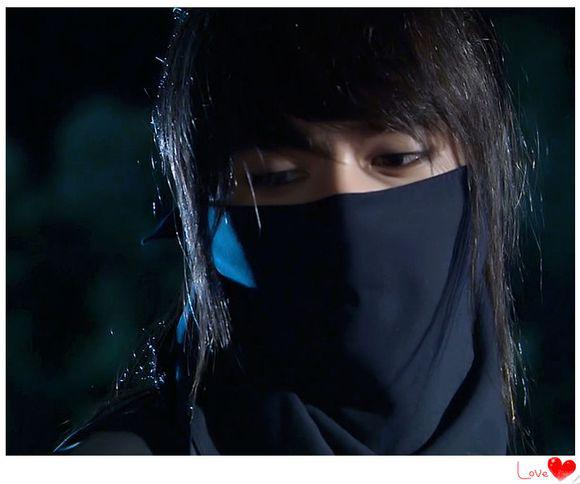OK: (191, 106, 450, 365)
